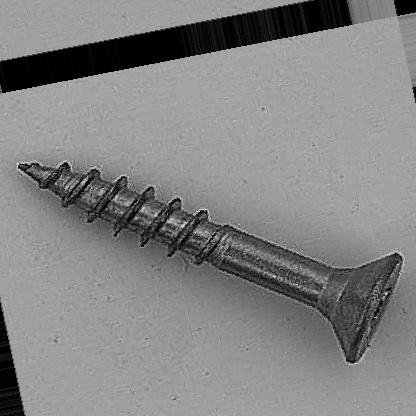metal: (17, 161, 405, 366)
